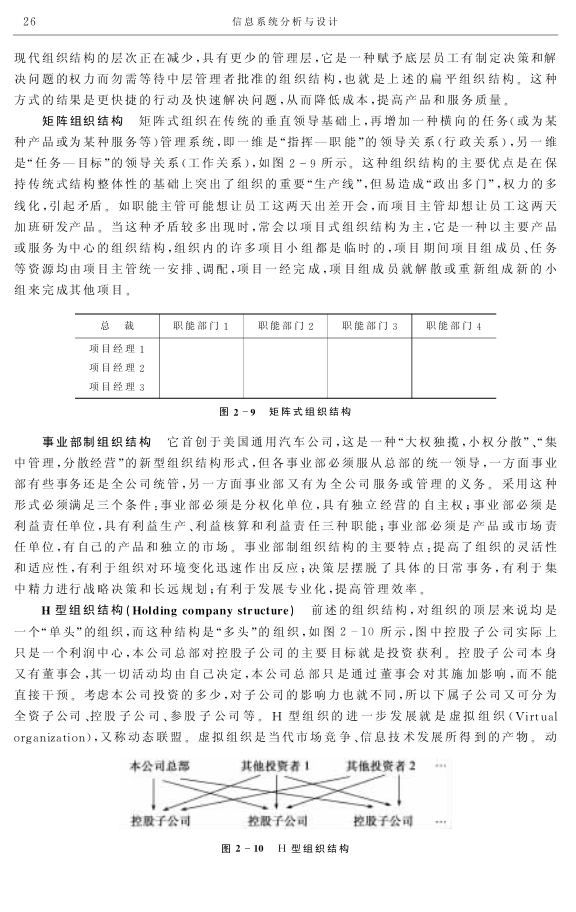table: (74, 313, 497, 400)
